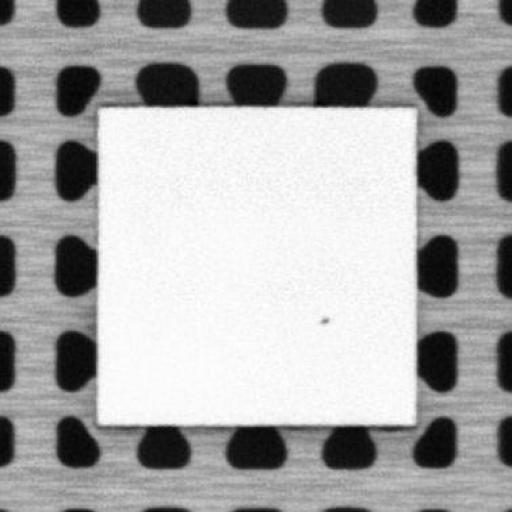DIE_INK: (314, 314, 332, 324)
